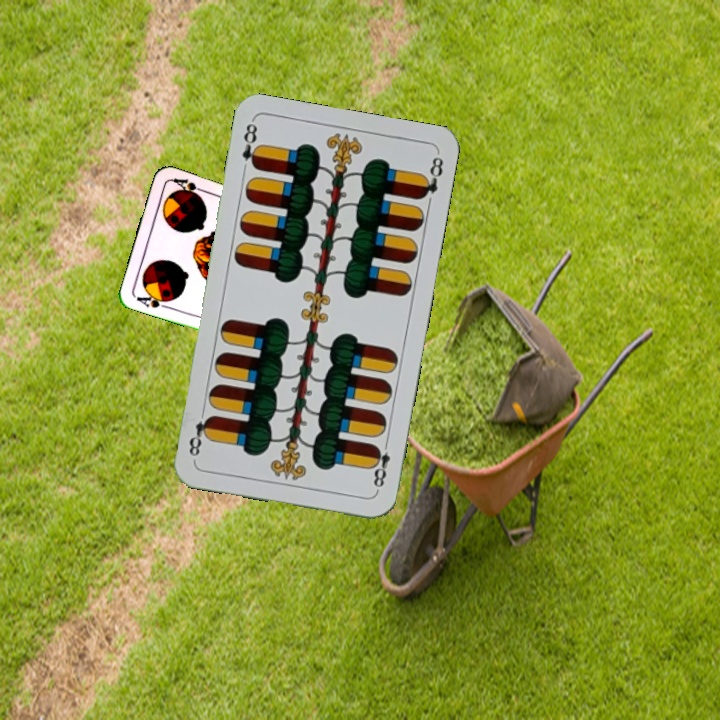E8: (367, 436, 393, 494), (238, 117, 263, 172)
SA: (131, 289, 172, 311)
